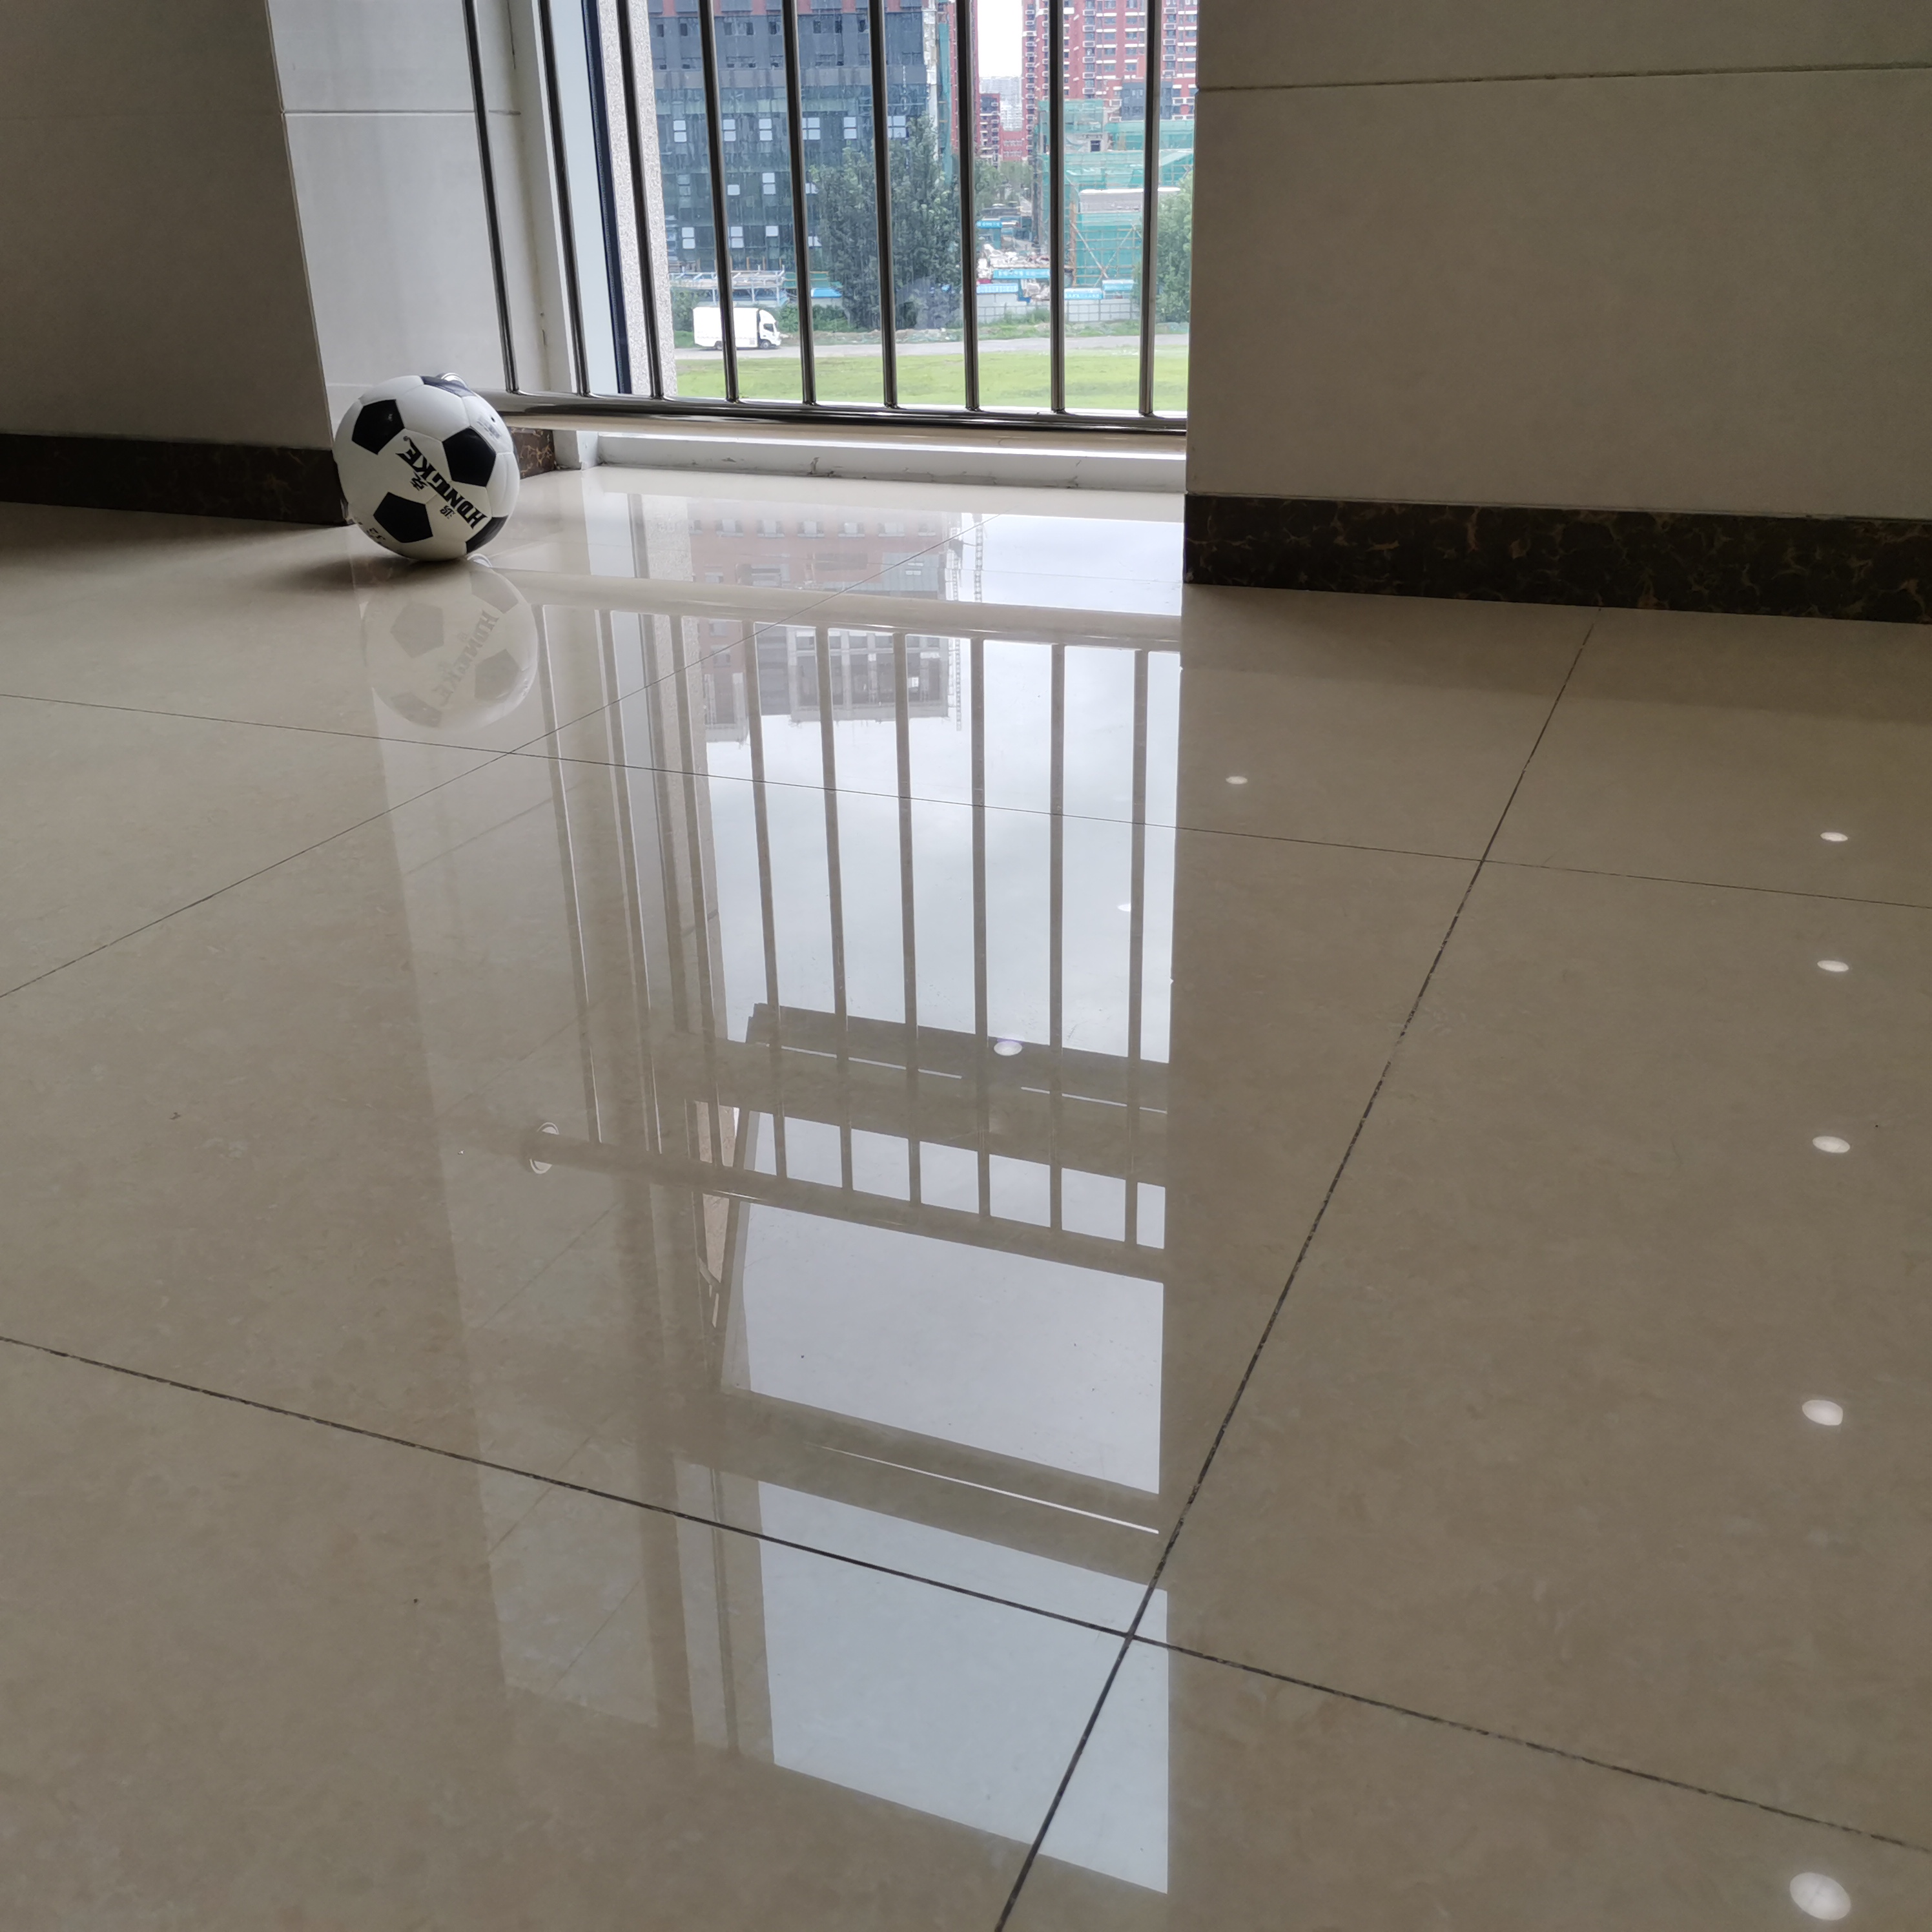football: (333, 375, 520, 559)
